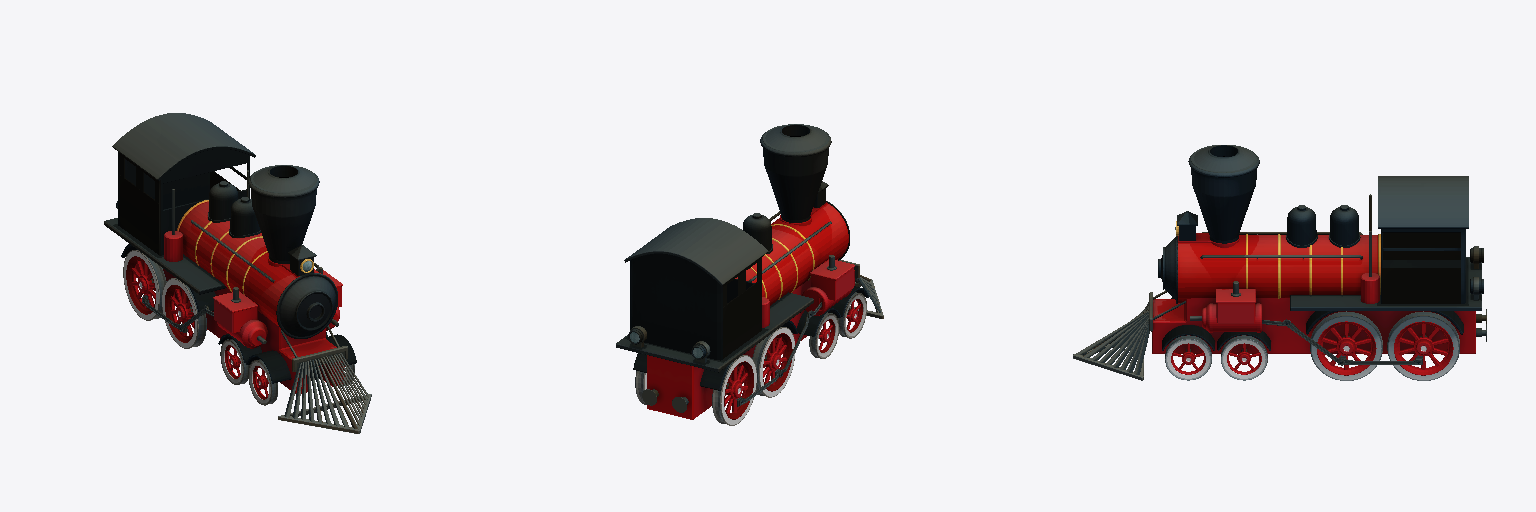
3 views of the same model, side by side, from view 1: azimuth 30°, elevation 25°; view 2: azimuth 150°, elevation 25°; view 3: azimuth 270°, elevation 25° (orthographic).
Visible parts, largest first — view 1: obj1; view 2: obj1; view 3: obj1.
Part boxes in pixels (x1,y1,x2,y2): obj1: (104, 113, 371, 433); obj1: (616, 124, 883, 425); obj1: (1073, 145, 1486, 380).
Bounding box in the file's own units: 1.64 × 2.95 × 5.29.
Materials: 1 (1 with a texture image).